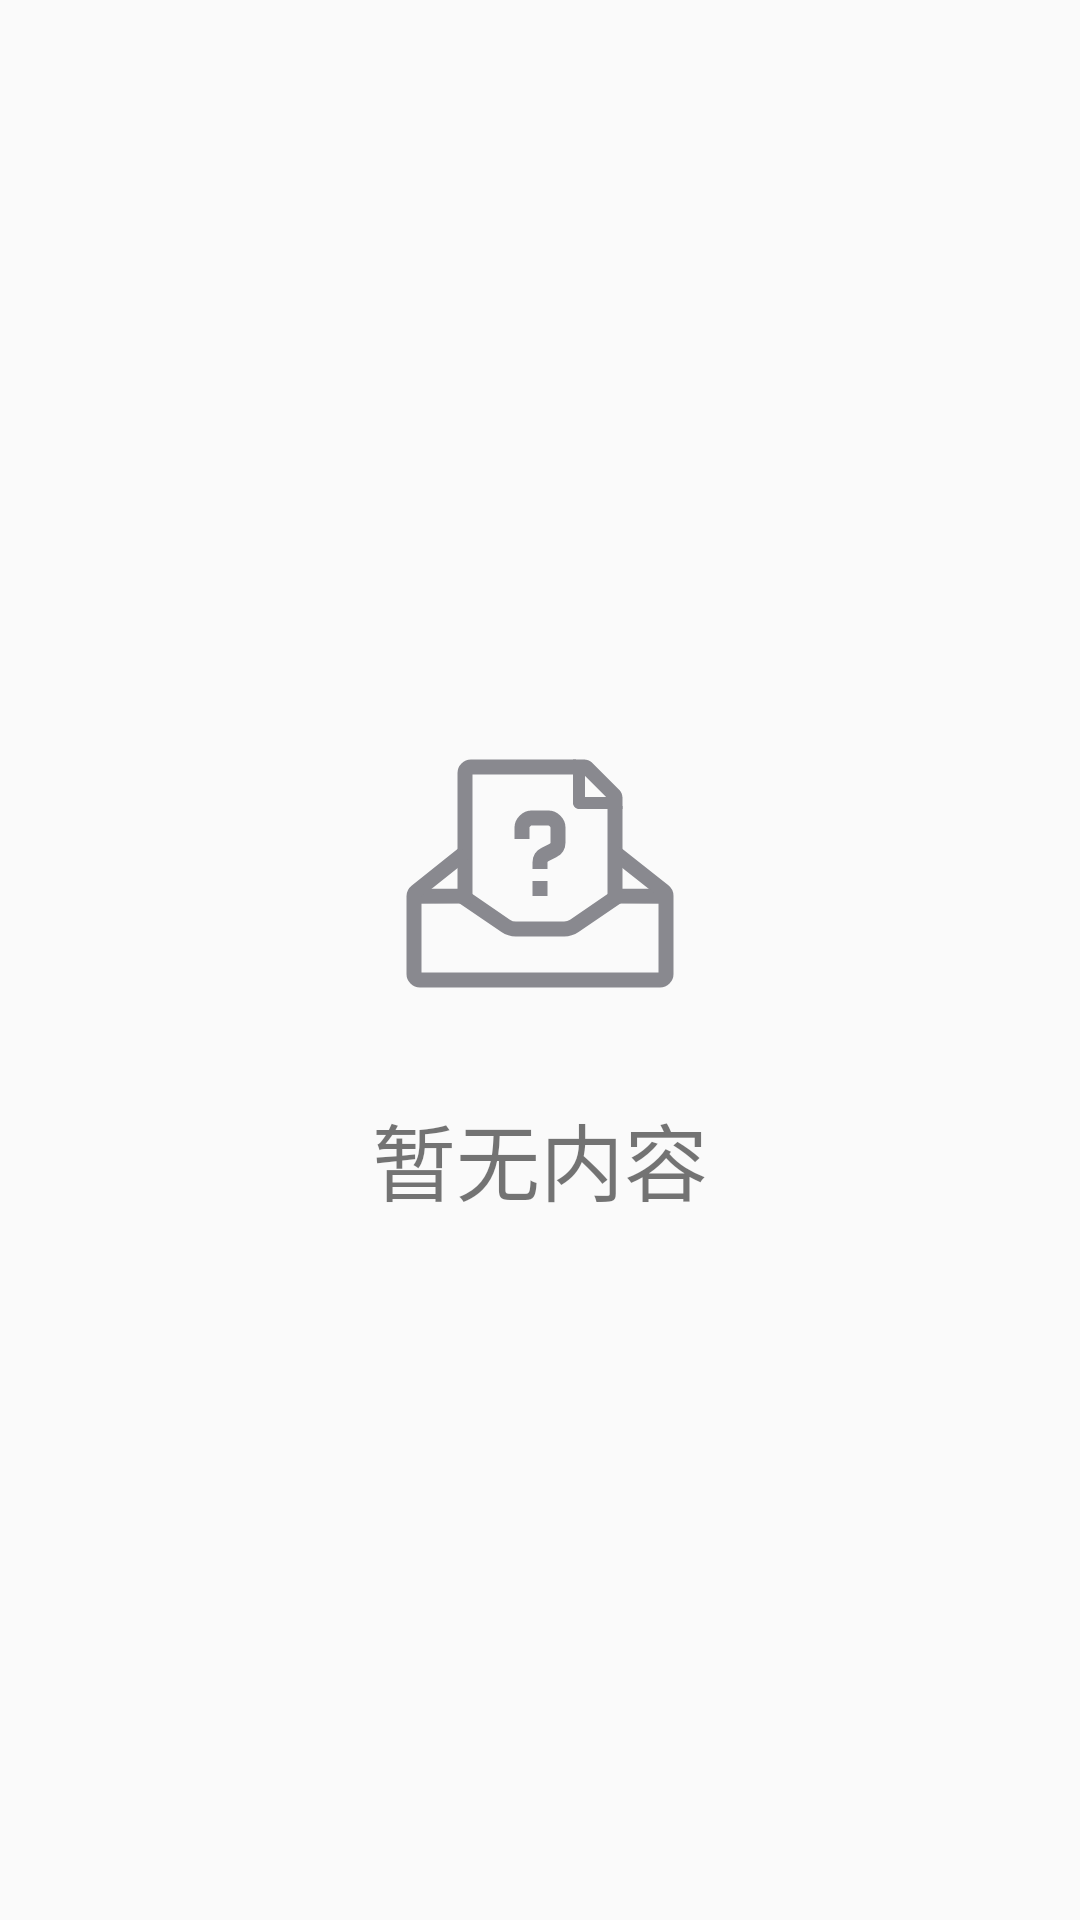

Where icons sit on this 1080w x 1920h app screen, as (x1, y1, x2, y2):
empty: (406, 759, 674, 988)
